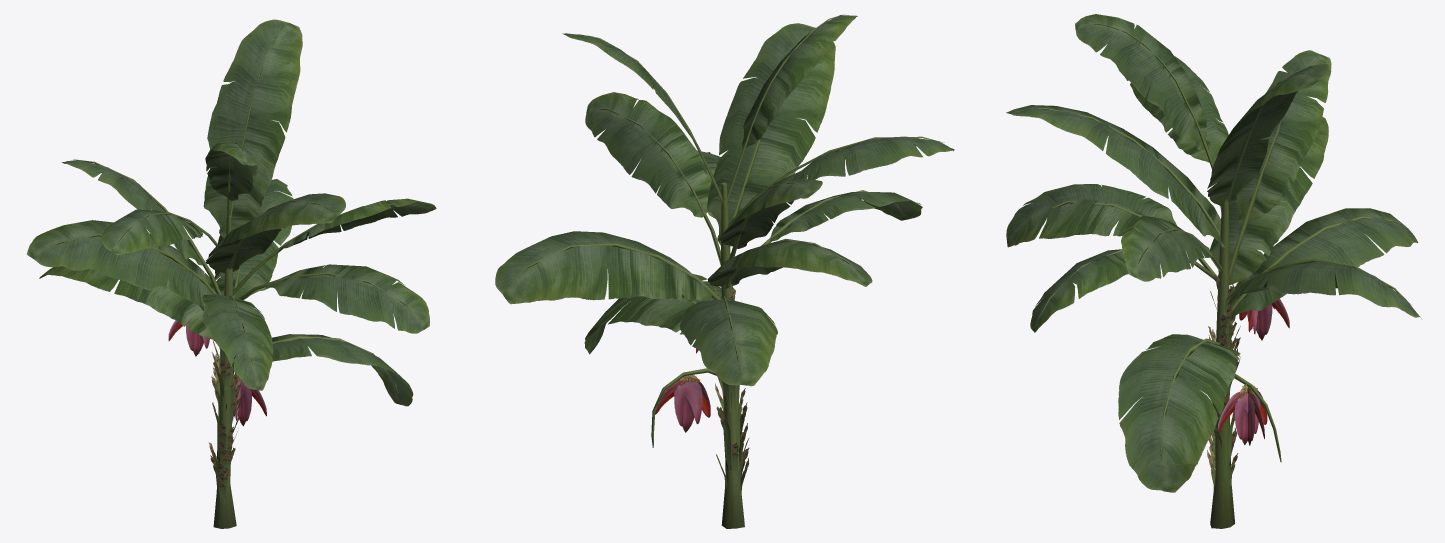
The model's file is Musa_Acuminata_Spring_Adult.glb.
The picture shows the model from 3 angles, left to right: view 1: azimuth 30°, elevation 25°; view 2: azimuth 150°, elevation 25°; view 3: azimuth 270°, elevation 25°; orthographic projection. The views are drawn at different scales.
Visible parts, largest first — view 1: Musa_Acuminata_Spring_Adult__LOD3; view 2: Musa_Acuminata_Spring_Adult__LOD3; view 3: Musa_Acuminata_Spring_Adult__LOD3.
Boxes of the visible parts, x1=… form: Musa_Acuminata_Spring_Adult__LOD3: x1=27, y1=19, x2=436, y2=528; Musa_Acuminata_Spring_Adult__LOD3: x1=495, y1=14, x2=954, y2=528; Musa_Acuminata_Spring_Adult__LOD3: x1=1006, y1=14, x2=1421, y2=528.
Bounding box in the file's own units: 3.77 × 4.64 × 3.6.
3 materials, 3 textured.
